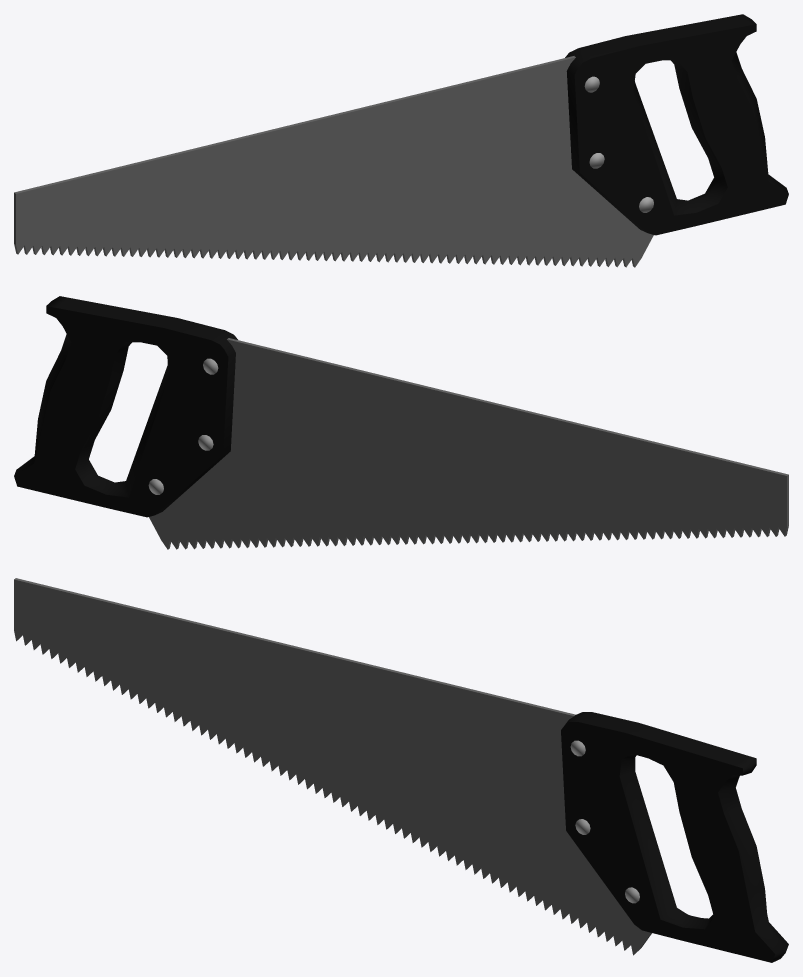
Rendered from SAW.fbx.
3 renders of one model, top to bottom at view 1: azimuth 30°, elevation 25°; view 2: azimuth 150°, elevation 25°; view 3: azimuth 330°, elevation 25°, orthographic.
Visible parts, largest first — view 1: SAW; view 2: SAW; view 3: SAW.
Part boxes in pixels (<box>): SAW: <box>14,14,788,267</box>; SAW: <box>14,296,788,549</box>; SAW: <box>14,578,788,962</box>.
Size of the model in its own units: 6156 by 1730 by 202.
Materials: 1 (1 with a texture image).
